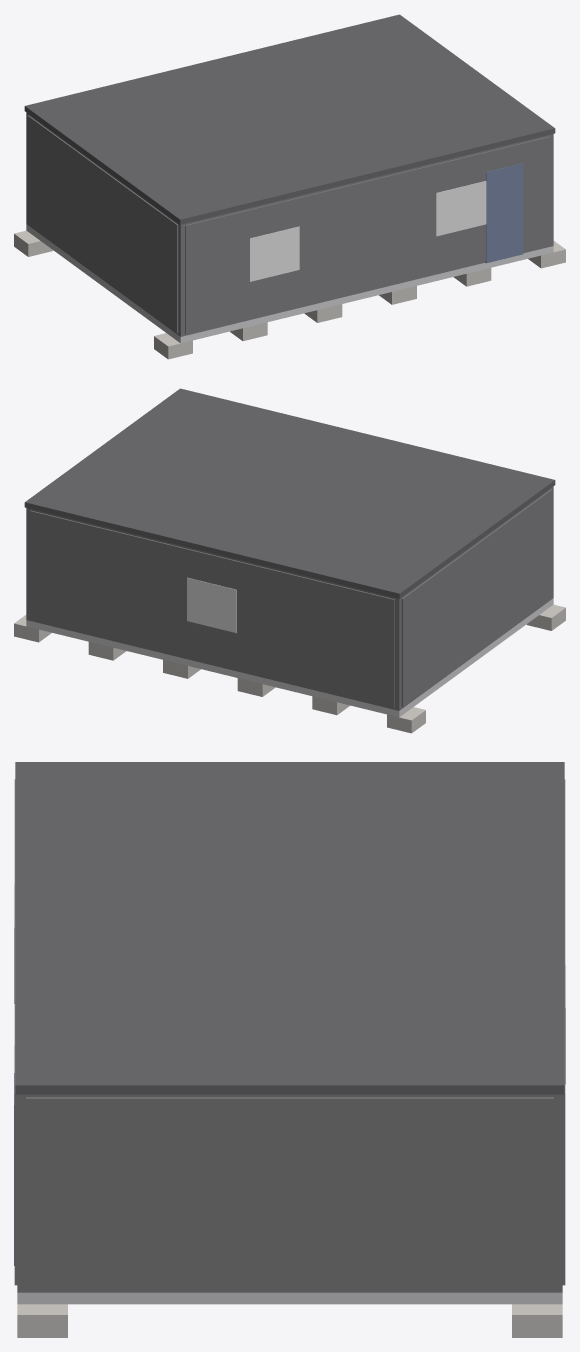
Rendered from Studio-30-Base-CharcoalSilver-LOD0.glb.
The picture shows the model from 3 angles, top to bottom: view 1: azimuth 30°, elevation 25°; view 2: azimuth 150°, elevation 25°; view 3: azimuth 270°, elevation 25°; orthographic projection. The views are drawn at different scales.
Visible parts, largest first — view 1: RoofMain, ExteriorPanelsStandard, WindowsStandard, BaseFrame, FoundationBlocks, ExteriorShell, EntryDoor; view 2: RoofMain, ExteriorPanelsStandard, BaseFrame, FoundationBlocks, ExteriorShell, WindowsStandard; view 3: RoofMain, ExteriorPanelsStandard, ExteriorShell, BaseFrame, FoundationBlocks.
Boxes of the visible parts, box(x1,y1,x2,y2) form: RoofMain: box(24, 14, 555, 224); ExteriorPanelsStandard: box(27, 115, 550, 334); WindowsStandard: box(249, 181, 486, 281); BaseFrame: box(26, 224, 553, 343); FoundationBlocks: box(14, 230, 565, 359); ExteriorShell: box(26, 112, 553, 336); EntryDoor: box(485, 163, 523, 263); RoofMain: box(24, 388, 555, 598); ExteriorPanelsStandard: box(30, 489, 552, 708); BaseFrame: box(26, 598, 553, 717); FoundationBlocks: box(14, 604, 565, 733); ExteriorShell: box(26, 486, 553, 710); WindowsStandard: box(187, 577, 236, 633); RoofMain: box(15, 762, 564, 1094); ExteriorPanelsStandard: box(14, 779, 565, 1289); ExteriorShell: box(17, 1094, 562, 1292); BaseFrame: box(17, 1292, 562, 1304); FoundationBlocks: box(17, 1304, 562, 1337).
Size of the model in its own units: 9.6 by 3.17 by 6.53.
